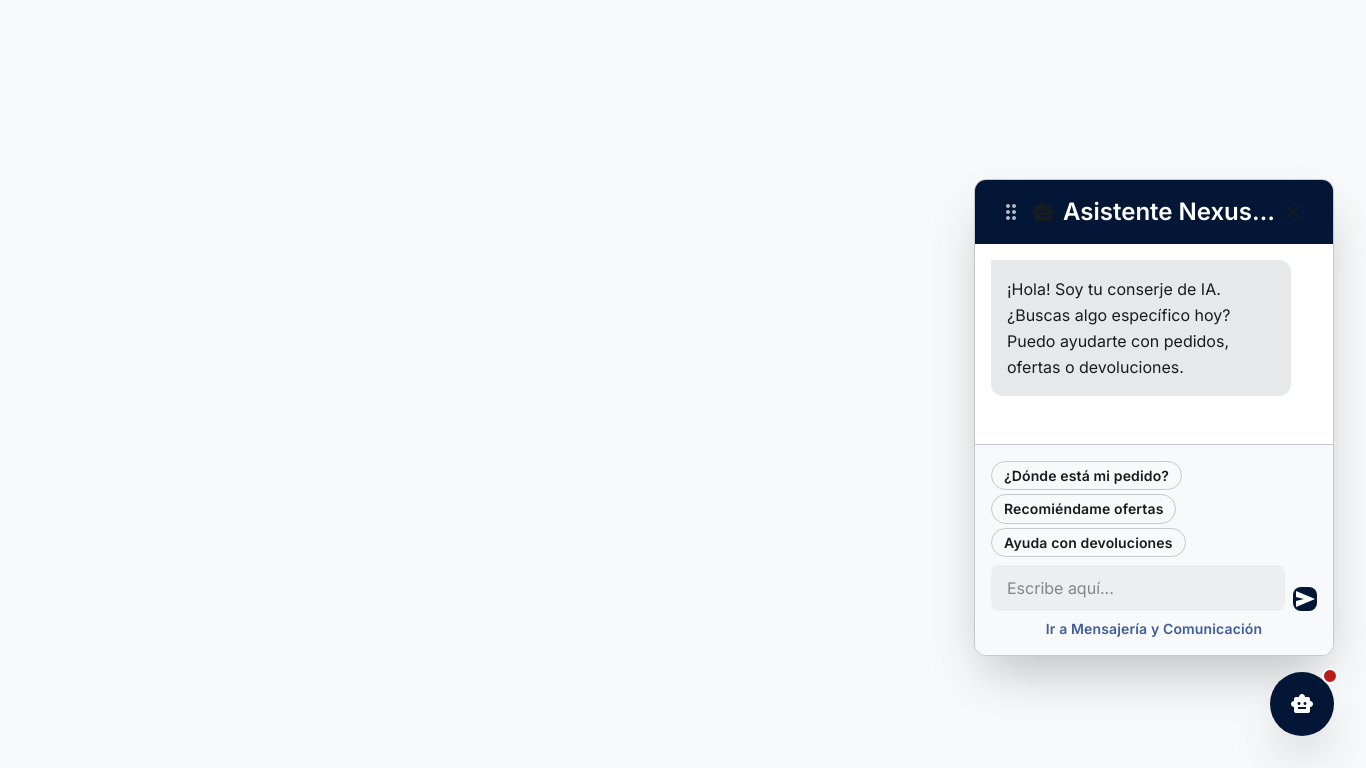
Test case: AiChatWidget › sends a message when clicking the send button
In the text box with placeholder "Escribe aquí...": (1138, 588) [991,565,1285,611], type "oferta"
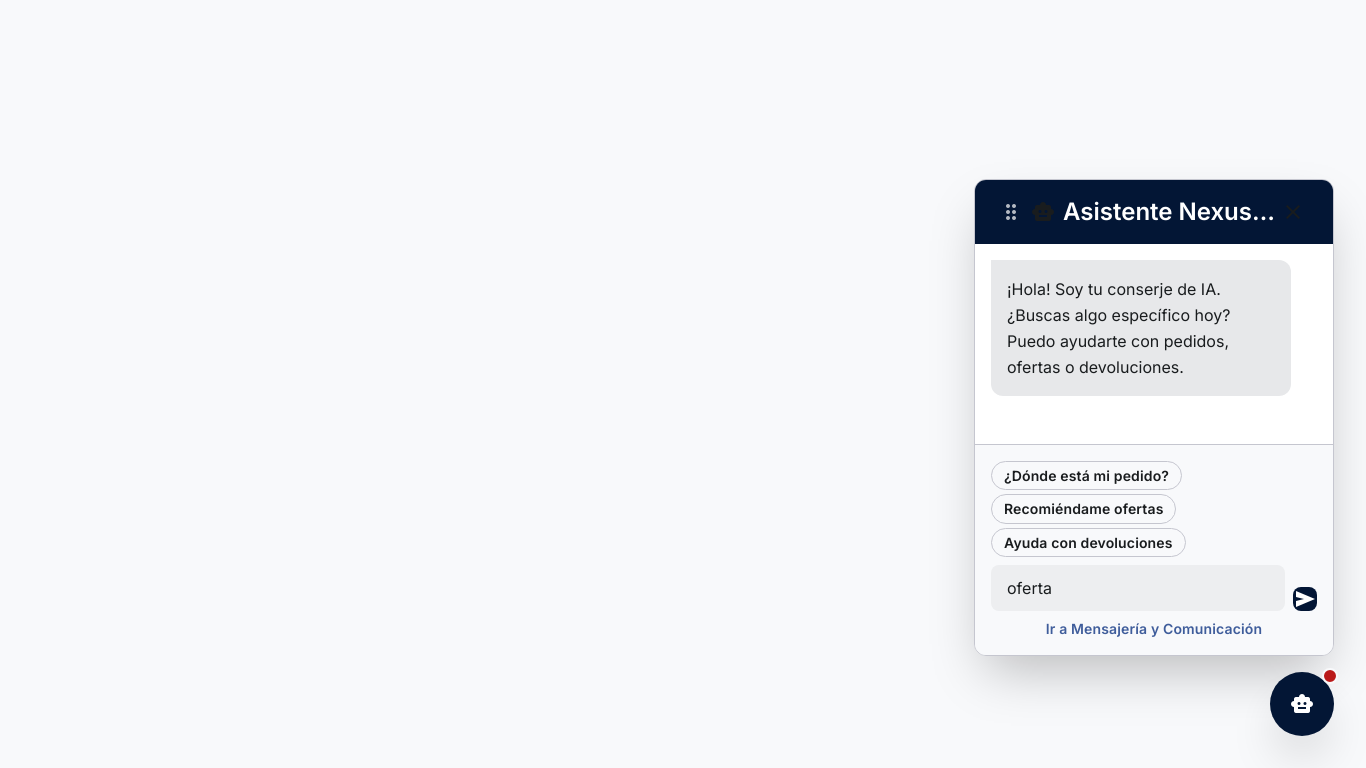
Click the button named "Enviar mensaje": (1305, 599) [1293,587,1317,611]
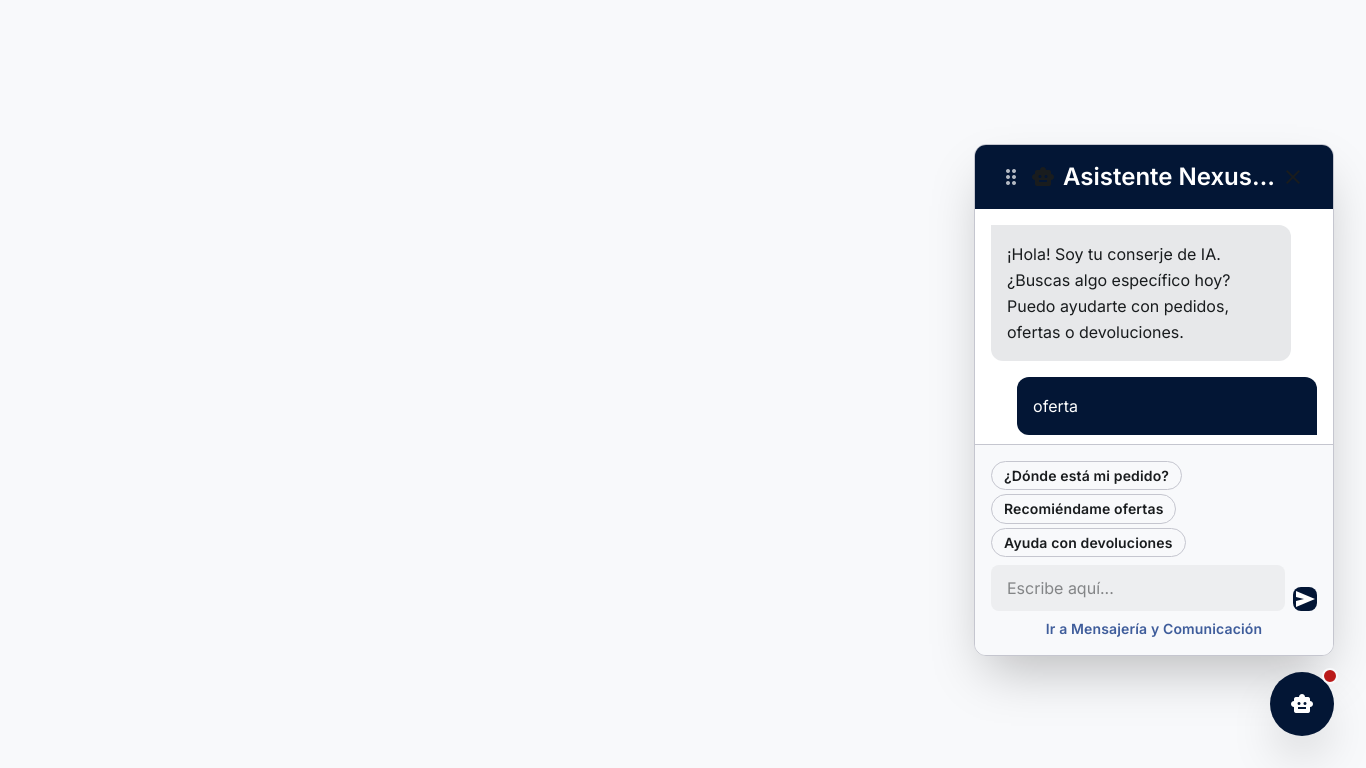
Expected: the text "oferta" is shown, [1017,377,1317,435]
